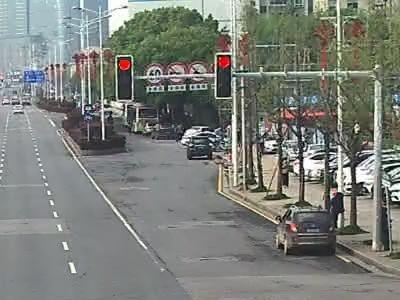red: (215, 51, 241, 74), (115, 55, 136, 71)
